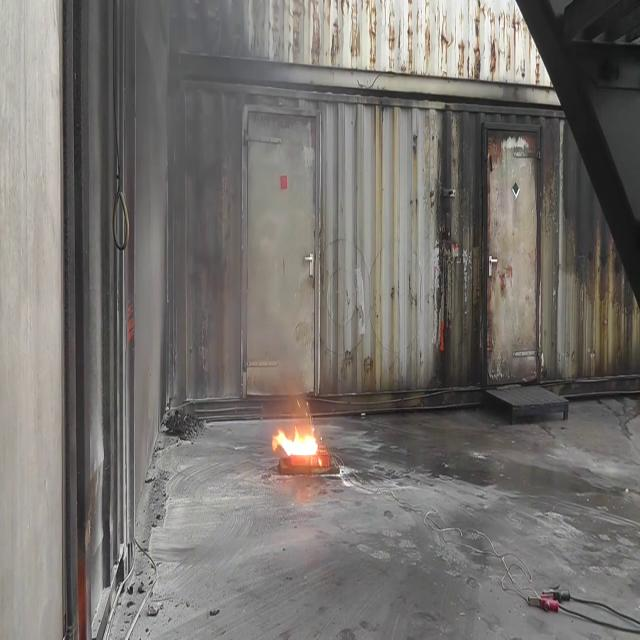Fire: (272, 414, 326, 464)
